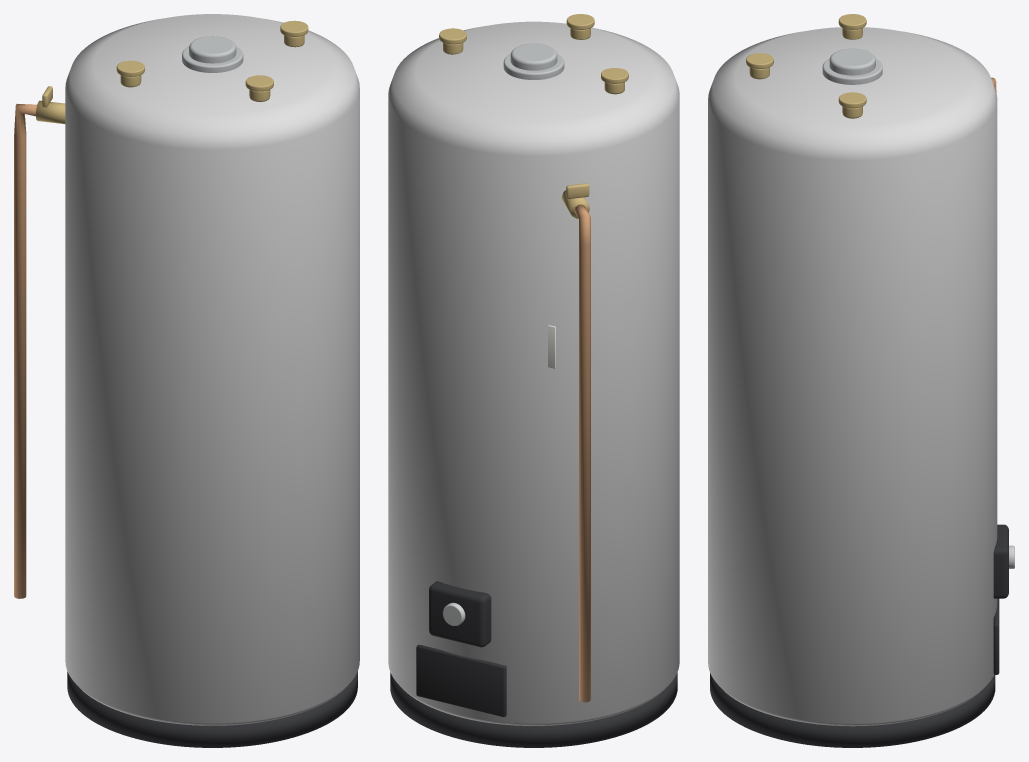
File: water-heater-tank.glb
The picture shows the model from 3 angles, left to right: view 1: azimuth 30°, elevation 25°; view 2: azimuth 150°, elevation 25°; view 3: azimuth 270°, elevation 25°; orthographic projection.
Visible parts, largest first — view 1: Enamelled tank jacket, Tank base ring, Relief discharge pipe, Flue pipe, Flue collar, Relief valve body; view 2: Enamelled tank jacket, Tank base ring, Relief discharge pipe, Burner access cover, Thermostat control, Flue pipe, Flue collar; view 3: Enamelled tank jacket, Tank base ring, Thermostat control, Flue pipe, Flue collar.
Part boxes in pixels (x1,y1,x2,y2): Enamelled tank jacket: (65, 14, 359, 725); Tank base ring: (67, 671, 357, 747); Relief discharge pipe: (14, 104, 36, 598); Flue pipe: (189, 36, 236, 63); Flue collar: (182, 46, 243, 72); Relief valve body: (36, 100, 65, 123); Enamelled tank jacket: (388, 21, 679, 725); Tank base ring: (390, 672, 677, 747); Relief discharge pipe: (574, 204, 590, 702); Burner access cover: (416, 644, 506, 716); Thermostat control: (429, 581, 491, 647); Flue pipe: (510, 43, 557, 70); Flue collar: (503, 53, 564, 79); Enamelled tank jacket: (708, 27, 997, 726); Tank base ring: (710, 673, 995, 747); Thermostat control: (993, 524, 1008, 598); Flue pipe: (829, 48, 875, 75); Flue collar: (822, 58, 882, 84).
Bounding box in the file's own units: 0.624 × 1.5 × 0.662.
